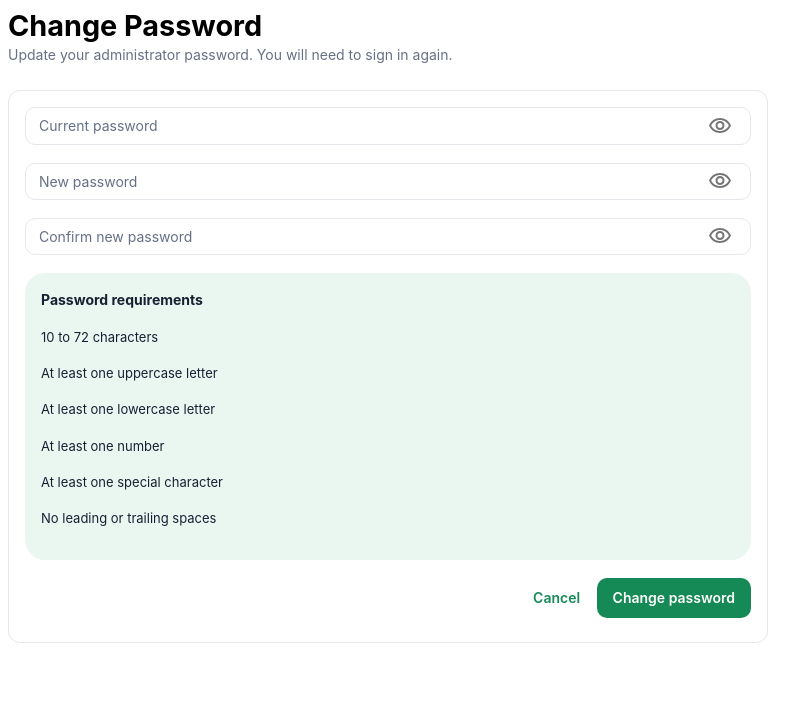
Test case: ChangePasswordPage › validates weak and mismatched new passwords
This screenshot has width=785, height=703.
Type "StrongPass1!" into the password field labelled "Current password" at (358, 126), box top-left (25, 107), bottom-right (692, 144)
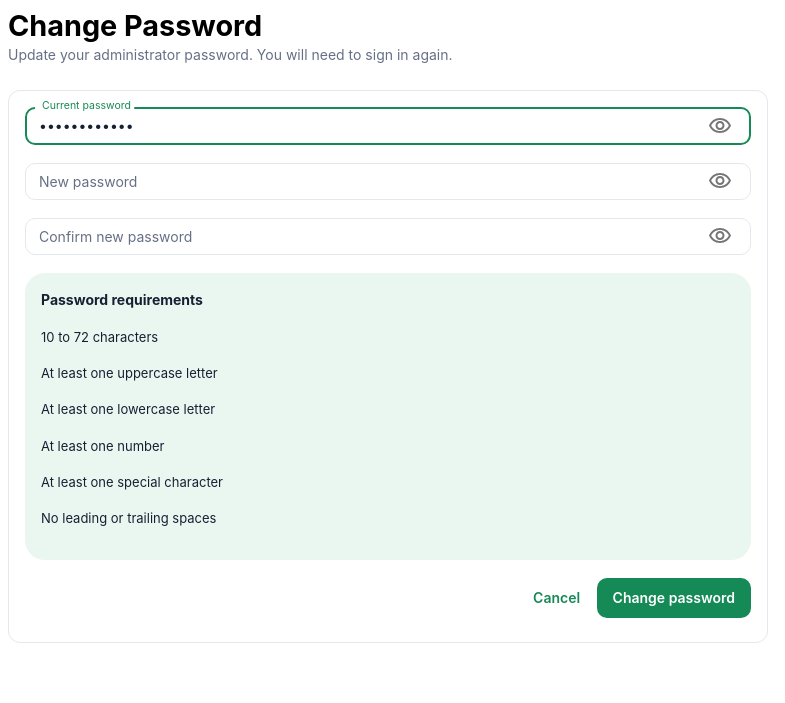
Type "weak" into the password field labelled "New password" at (358, 181), box top-left (25, 162), bottom-right (692, 200)
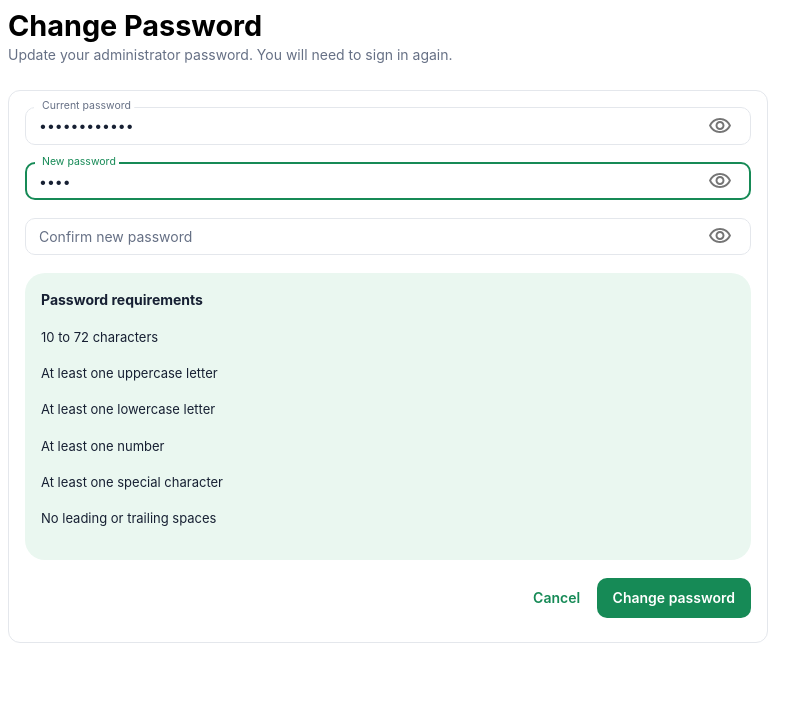
Type "different" into the password field labelled "Confirm new password" at (358, 236), box top-left (25, 218), bottom-right (692, 255)
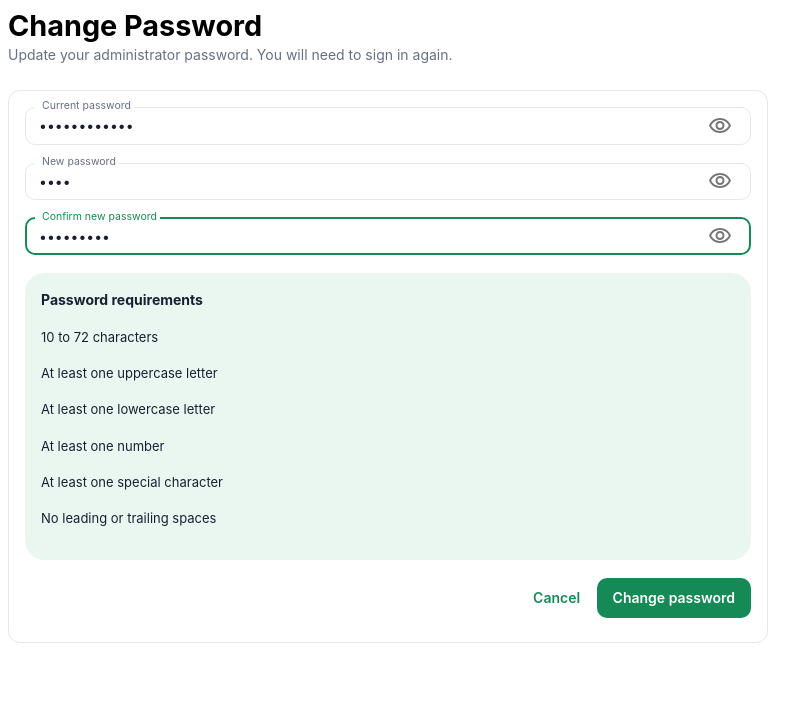
Click the button "Change password" at (674, 598), box top-left (597, 578), bottom-right (751, 618)
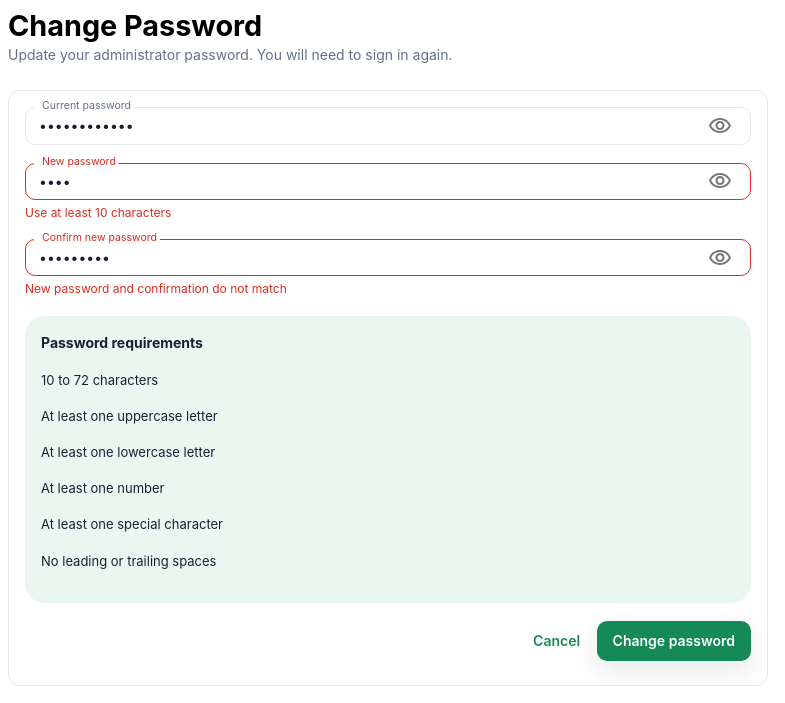
Now the text "Use at least 10 characters" is shown, box top-left (25, 205), bottom-right (171, 220)
Now the text "New password and confirmation do not match" is shown, box top-left (25, 281), bottom-right (287, 296)
